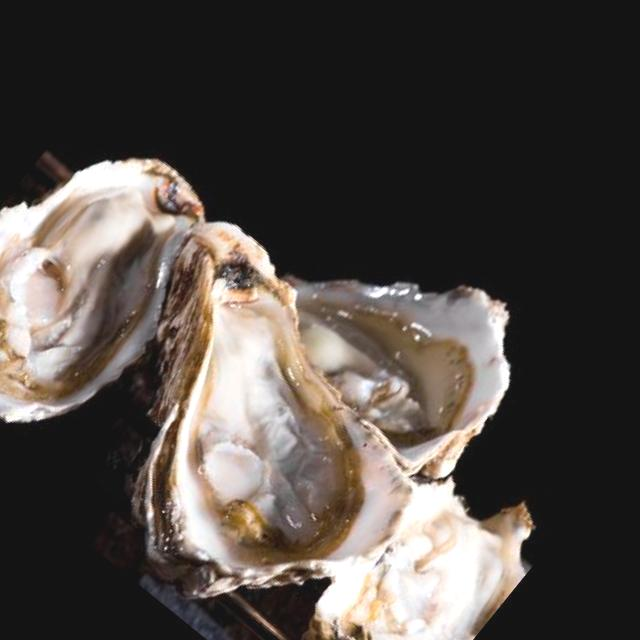Oyster-Open: (129, 220, 421, 602), (0, 159, 205, 426), (290, 278, 513, 481), (304, 482, 533, 639)
